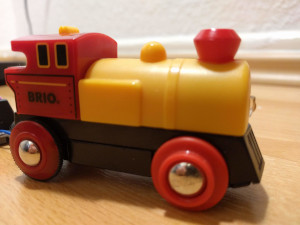brio: (8, 25, 268, 215)
